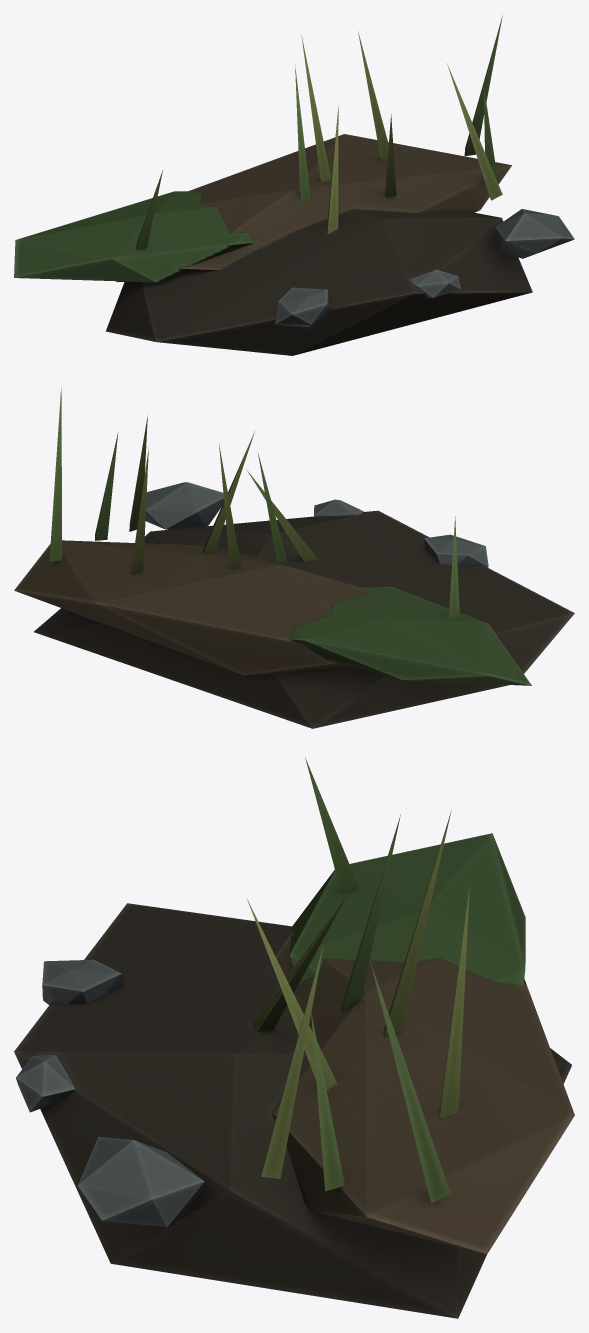
File: decor_shore_c.glb
3 renders of one model, top to bottom at view 1: azimuth 30°, elevation 25°; view 2: azimuth 150°, elevation 25°; view 3: azimuth 270°, elevation 25°, orthographic. The views are drawn at different scales.
Parts seen in each view (by area): view 1: decor_shore_c; view 2: decor_shore_c; view 3: decor_shore_c.
Part boxes in pixels (x1,y1,x2,y2): decor_shore_c: [14, 14, 574, 355]; decor_shore_c: [14, 387, 574, 728]; decor_shore_c: [14, 758, 574, 1318].
Bounding box in the file's own units: 1.37 × 0.6605 × 0.8384.
1 material, 1 textured.
